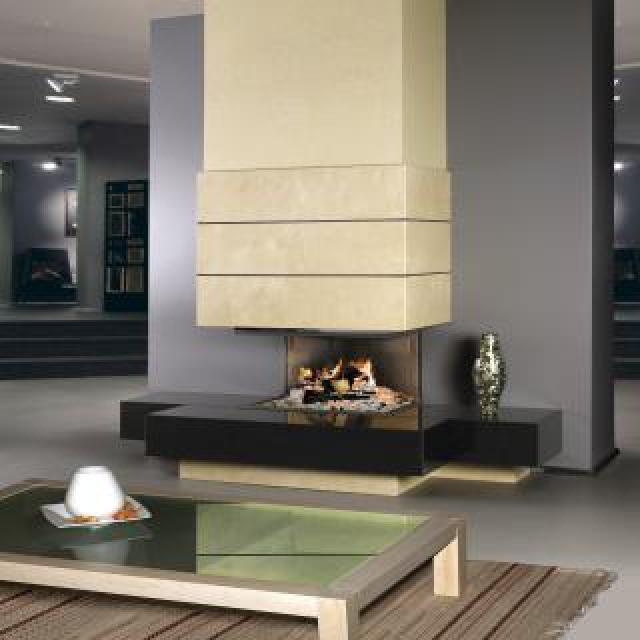zfire: (284, 354, 388, 402)
